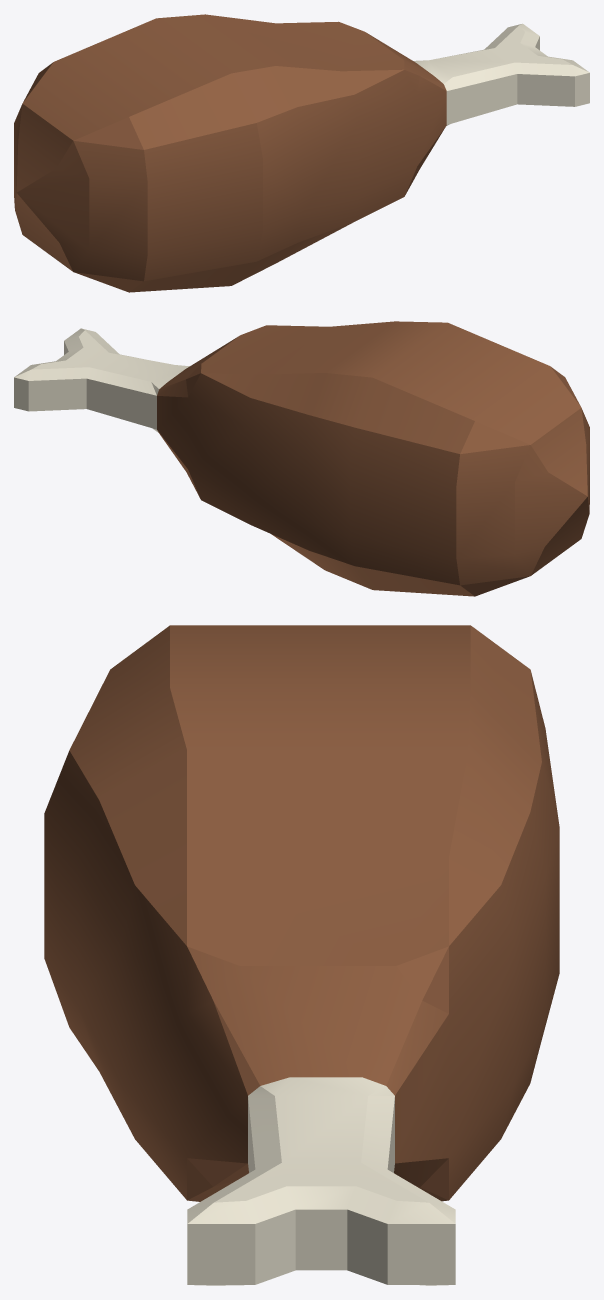
The model's file is udko.fbx.
3 renders of one model, top to bottom at view 1: azimuth 30°, elevation 25°; view 2: azimuth 150°, elevation 25°; view 3: azimuth 270°, elevation 25°, orthographic. The views are drawn at different scales.
Visible parts, largest first — view 1: Udko; view 2: Udko; view 3: Udko.
Boxes of the visible parts, x1=… form: Udko: x1=14, y1=14, x2=589, y2=292; Udko: x1=14, y1=321, x2=589, y2=596; Udko: x1=44, y1=625, x2=559, y2=1285.
Bounding box in the file's own units: 7.01 × 2.64 × 2.9.
